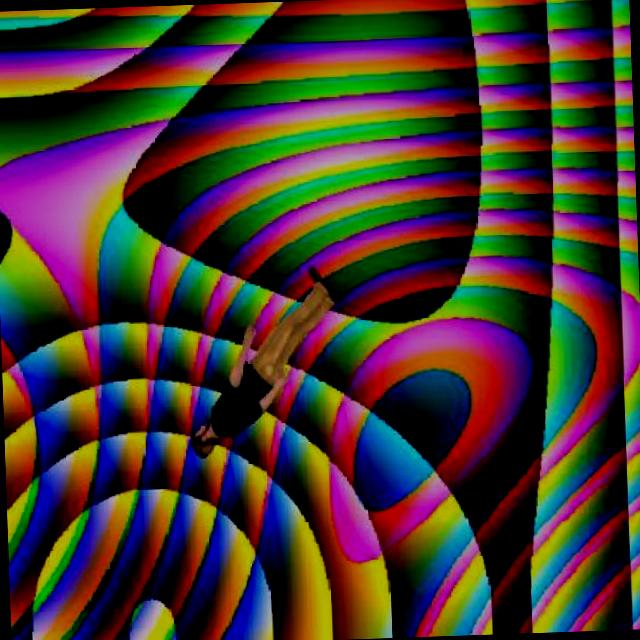Person: (180, 255, 348, 460)
